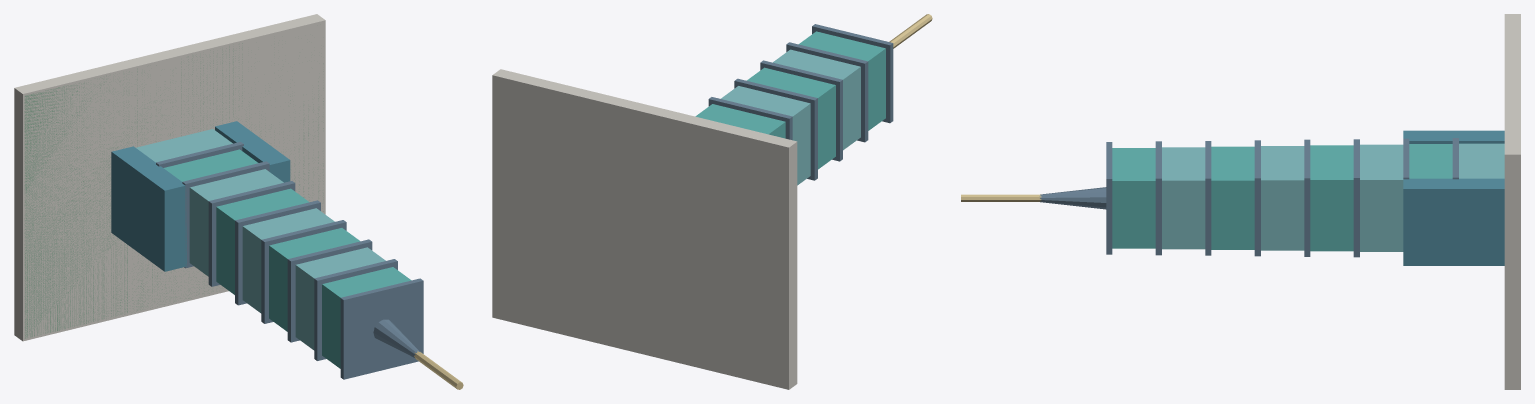
File: taipei101.glb
3 renders of one model, left to right at view 1: azimuth 30°, elevation 25°; view 2: azimuth 150°, elevation 25°; view 3: azimuth 270°, elevation 25°, orthographic. The views are drawn at different scales.
Parts seen in each view (by area): view 1: g0, g1, g20, g17, g6, g10, g8, g14, g12, g16, g21, g2 (+10 smaller); view 2: g0, g12, g14, g16, g10, g8, g11, g15, g17, g13, g9, g19; view 3: g21, g0, g6, g8, g10, g12, g14, g16, g2, g4, g20, g18 (+7 smaller).
Boxes of the visible parts, x1=… form: g0: x1=14, y1=14, x2=325, y2=341; g1: x1=24, y1=43, x2=323, y2=338; g20: x1=111, y1=146, x2=186, y2=271; g17: x1=340, y1=278, x2=423, y2=379; g6: x1=189, y1=169, x2=283, y2=276; g10: x1=242, y1=208, x2=334, y2=313; g8: x1=216, y1=188, x2=309, y2=294; g14: x1=295, y1=247, x2=385, y2=350; g12: x1=269, y1=228, x2=360, y2=331; g16: x1=322, y1=267, x2=411, y2=368; g21: x1=215, y1=121, x2=290, y2=182; g2: x1=136, y1=129, x2=232, y2=162; g0: x1=492, y1=69, x2=797, y2=389; g12: x1=747, y1=67, x2=835, y2=169; g14: x1=773, y1=49, x2=860, y2=150; g16: x1=798, y1=31, x2=885, y2=130; g10: x1=721, y1=86, x2=810, y2=185; g8: x1=695, y1=104, x2=785, y2=138; g11: x1=734, y1=78, x2=817, y2=180; g15: x1=786, y1=42, x2=868, y2=142; g17: x1=812, y1=24, x2=893, y2=123; g13: x1=760, y1=60, x2=842, y2=161; g9: x1=708, y1=97, x2=792, y2=140; g19: x1=889, y1=14, x2=932, y2=48; g21: x1=1403, y1=178, x2=1504, y2=265; g0: x1=1504, y1=14, x2=1520, y2=389; g6: x1=1360, y1=144, x2=1403, y2=251; g8: x1=1310, y1=145, x2=1353, y2=251; g10: x1=1261, y1=146, x2=1304, y2=250; g12: x1=1211, y1=146, x2=1254, y2=249; g14: x1=1162, y1=147, x2=1205, y2=249; g16: x1=1112, y1=148, x2=1155, y2=248; g2: x1=1459, y1=143, x2=1504, y2=178; g4: x1=1409, y1=144, x2=1452, y2=178; g20: x1=1403, y1=130, x2=1504, y2=143; g18: x1=1039, y1=187, x2=1106, y2=209.
Size of the model in its own units: 82 by 64 by 138.
